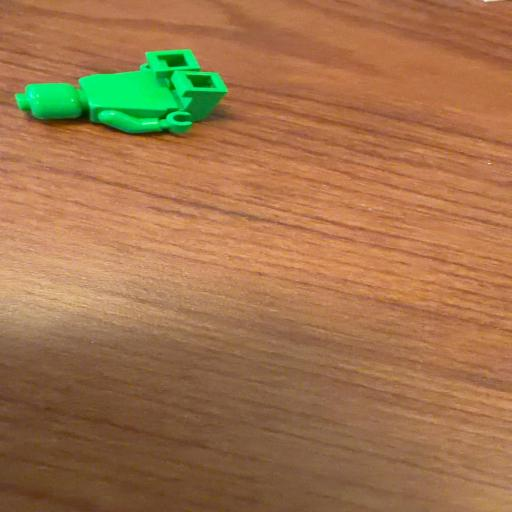UnoQ-minifig-detector: (15, 49, 228, 134)
